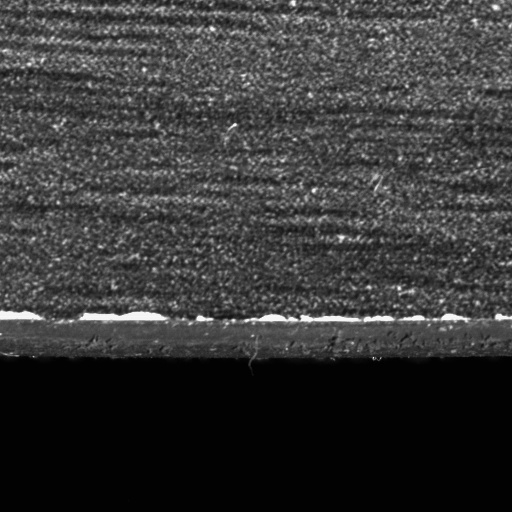huashang: (251, 313, 395, 324), (79, 309, 170, 323), (396, 313, 470, 322), (0, 308, 44, 323)
